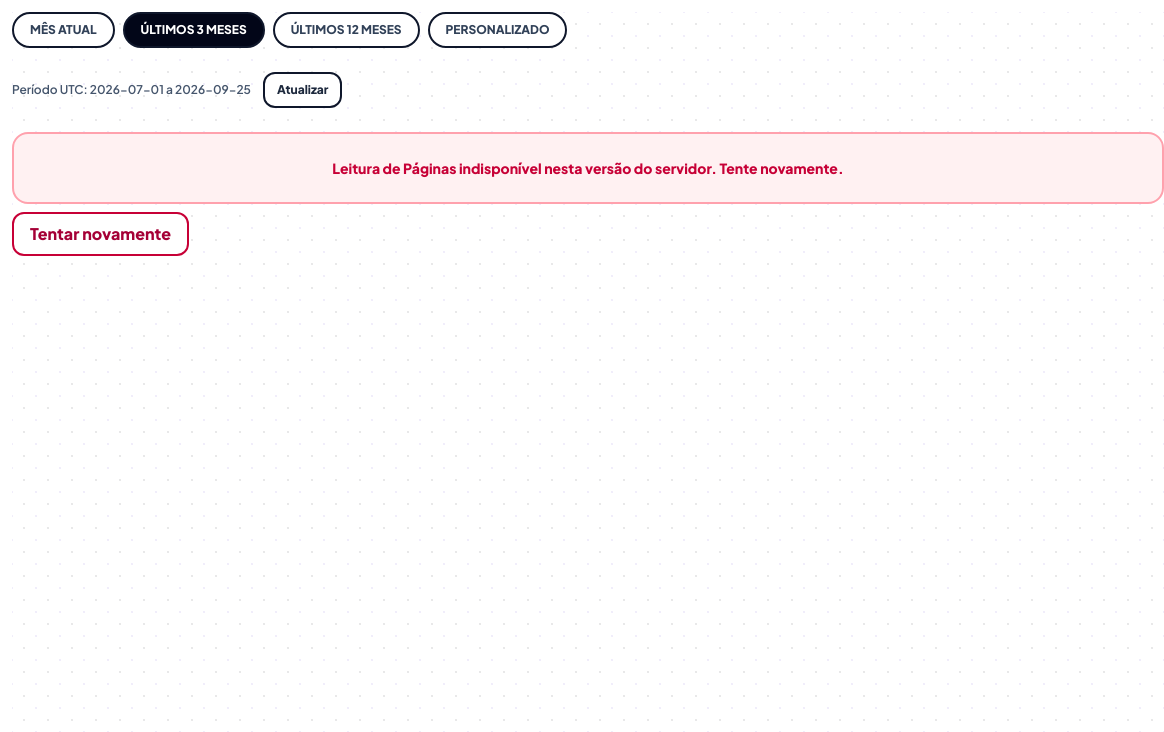
Test: Páginas recuperadas › backend antigo ou payload parcial é indisponível e nunca zero
The image size is (1164, 732).
Check: the text "indisponível nesta versão do servidor" is shown, box [332,159,844,177]
Click the button "Tentar novamente" at coordinates (101, 234), box [12,212,189,256]
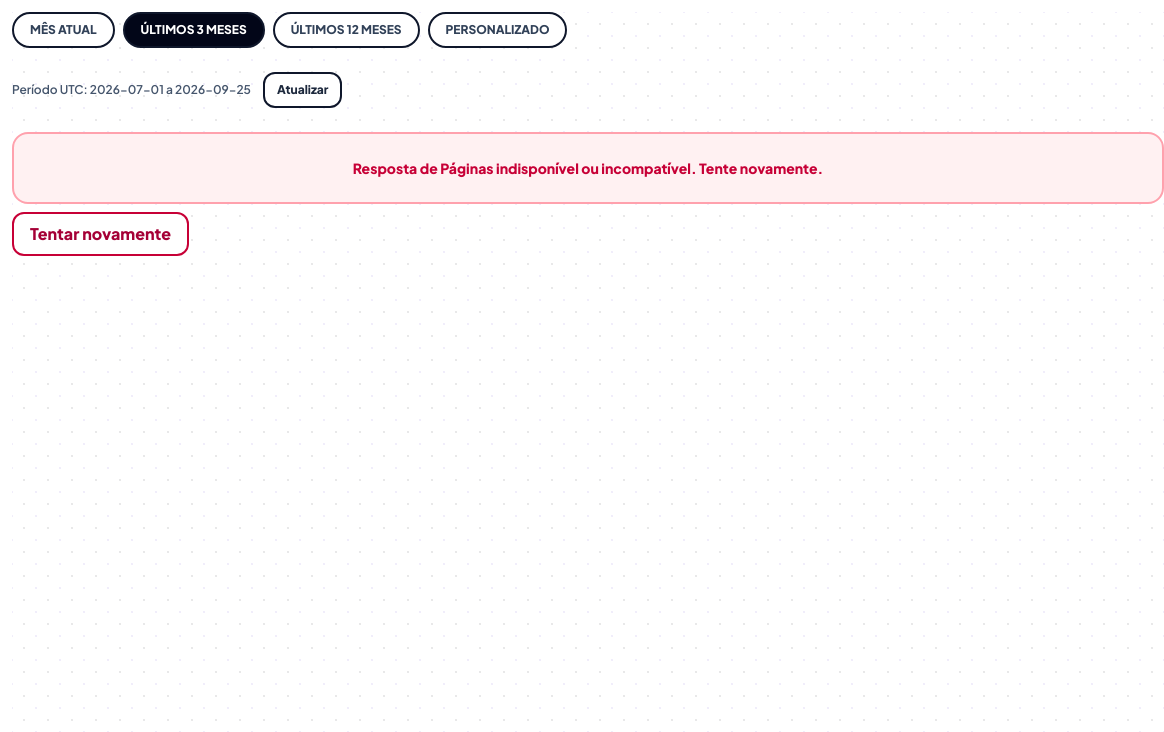
Check: the text "incompatível" is shown, box [353,159,823,177]
